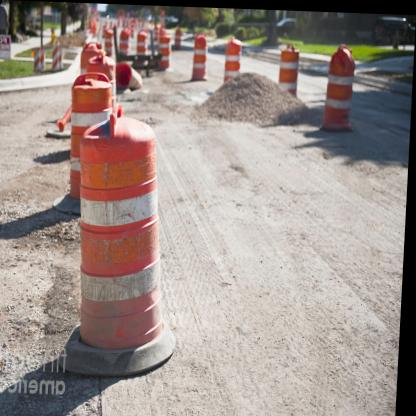obstacle: (65, 104, 177, 354), (321, 42, 358, 136), (189, 35, 211, 85), (278, 42, 301, 84), (225, 31, 244, 73)
